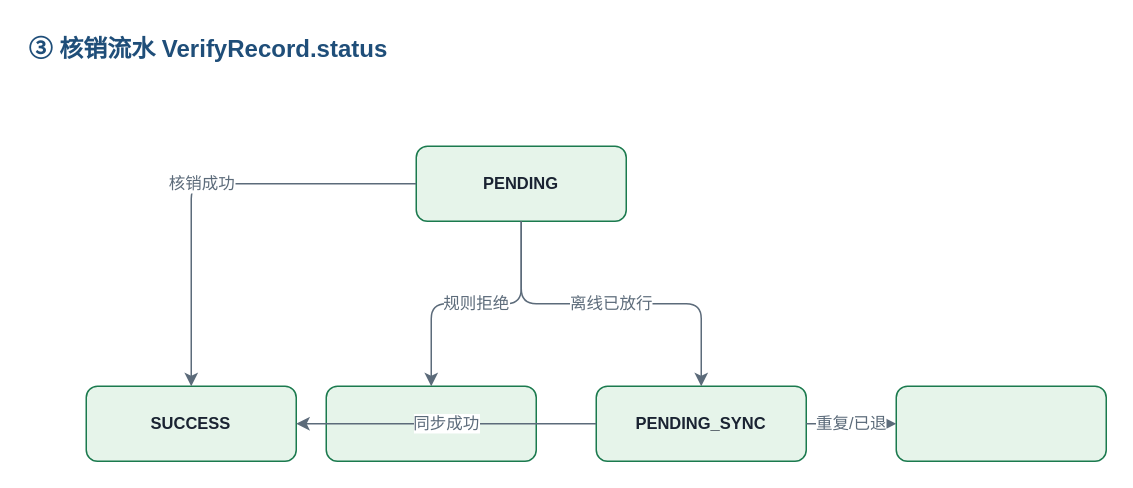
The diagram is 1133 pixels wide and 488 high, and some of its shapes have lost their labels. The shapes that lost their labels are listed below. From the top down, each one's centre as x and y in pixels, then its label:
point (430, 423): DENIED
point (1000, 423): CONFLICT
